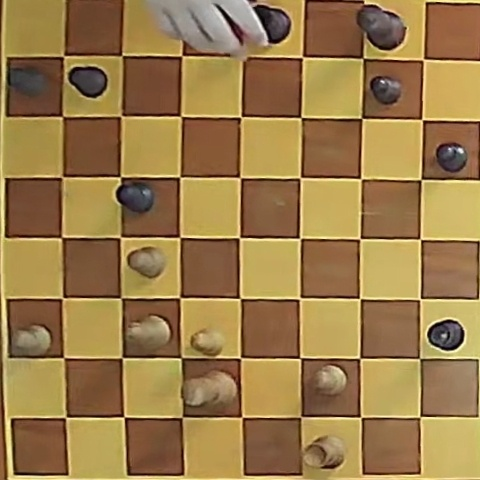black-king: (357, 4, 406, 50)
black-pawn: (69, 66, 108, 98), (8, 66, 48, 97), (116, 182, 154, 213), (435, 142, 467, 172), (371, 76, 402, 105)
black-rook: (253, 4, 291, 44), (427, 319, 464, 351)
white-bishop: (126, 315, 170, 353)
white-king: (183, 370, 236, 407)
white-pawn: (12, 325, 52, 356), (128, 247, 166, 278), (313, 365, 347, 395), (191, 328, 226, 356)
white-rook: (304, 436, 346, 469)
